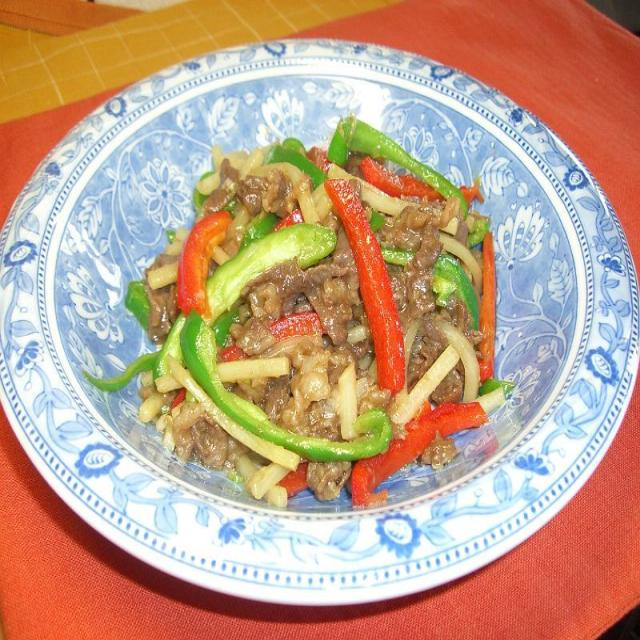牛肉菜式: (0, 27, 640, 611)
